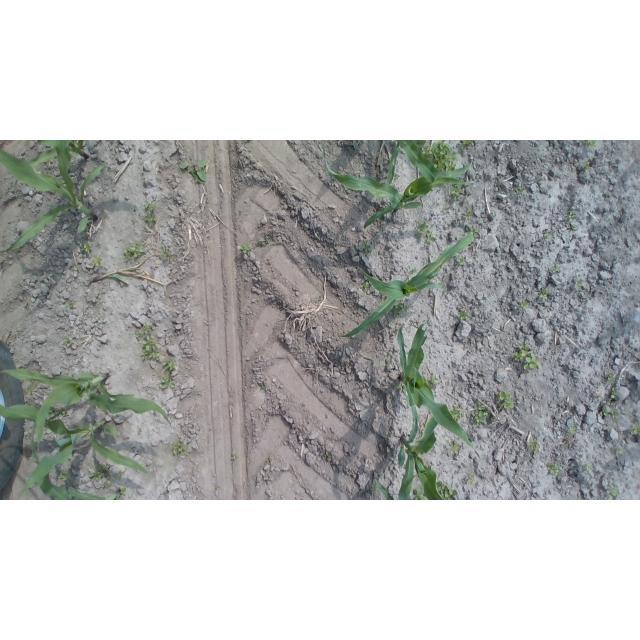Maize: (0, 368, 172, 452), (339, 232, 475, 338), (0, 404, 148, 497), (323, 141, 474, 229), (1, 141, 107, 253), (398, 321, 481, 459), (30, 420, 122, 500), (15, 141, 90, 200), (398, 406, 445, 500), (402, 141, 471, 185), (90, 255, 166, 290), (389, 142, 400, 187), (375, 480, 393, 501)
Weeds: (134, 322, 161, 362), (177, 158, 207, 187), (515, 342, 540, 370), (434, 144, 458, 171), (124, 241, 149, 264), (160, 357, 177, 390), (417, 219, 438, 244), (471, 401, 491, 425), (88, 462, 111, 481), (141, 202, 157, 227), (438, 481, 459, 499), (498, 389, 514, 411), (422, 140, 447, 154), (449, 404, 463, 421), (171, 442, 188, 456), (451, 183, 464, 201), (393, 302, 407, 318), (547, 461, 561, 476), (526, 437, 539, 453), (256, 235, 272, 248), (605, 484, 619, 498), (601, 372, 615, 385), (236, 244, 252, 255), (463, 205, 475, 219), (359, 239, 371, 253), (428, 373, 440, 387), (448, 441, 459, 456), (91, 255, 103, 268), (80, 241, 92, 254), (415, 487, 426, 500), (56, 471, 69, 482), (630, 422, 640, 436), (539, 286, 550, 298), (582, 461, 595, 471), (408, 265, 417, 279), (28, 381, 37, 395), (457, 310, 469, 320), (575, 278, 584, 291), (460, 141, 473, 150), (159, 246, 169, 257), (371, 482, 378, 497), (609, 386, 617, 399), (519, 300, 529, 310), (65, 299, 75, 309), (465, 476, 476, 485), (455, 255, 464, 266), (599, 408, 609, 417), (361, 281, 370, 291), (50, 407, 59, 417), (103, 480, 112, 490), (569, 423, 577, 434), (260, 382, 269, 391), (611, 409, 619, 419), (544, 233, 554, 241), (569, 211, 576, 222), (230, 452, 238, 461), (583, 160, 590, 170), (65, 335, 72, 345), (588, 140, 596, 148), (315, 296, 323, 304), (471, 228, 478, 237), (60, 408, 67, 417), (120, 487, 127, 496), (616, 447, 623, 455), (267, 456, 275, 463), (418, 140, 428, 145), (138, 427, 143, 437), (571, 224, 578, 231), (109, 179, 116, 186), (516, 187, 523, 194), (551, 266, 558, 273), (118, 470, 124, 478), (326, 451, 334, 457), (385, 359, 391, 367), (443, 205, 449, 211), (131, 218, 136, 225), (606, 400, 611, 406), (396, 383, 401, 389), (581, 140, 588, 144), (612, 403, 617, 406), (515, 140, 521, 142), (114, 140, 118, 142)
